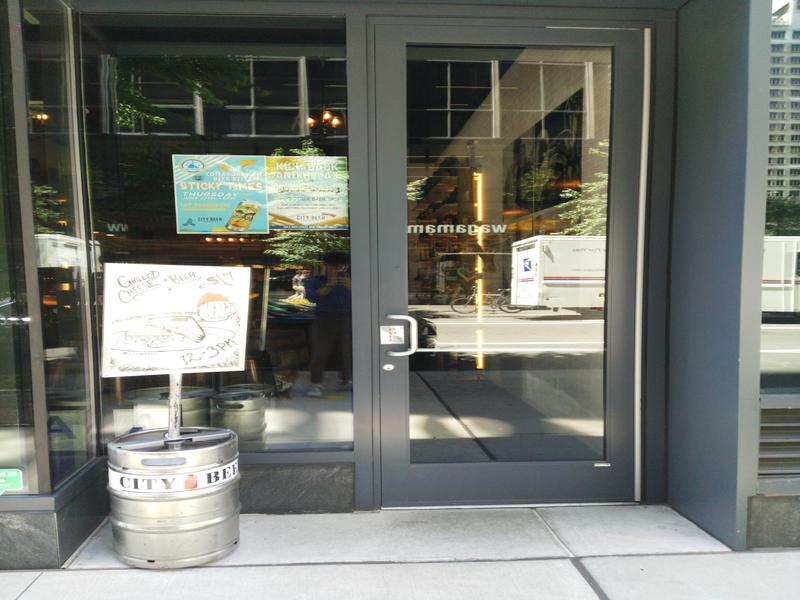door: (364, 10, 661, 519)
